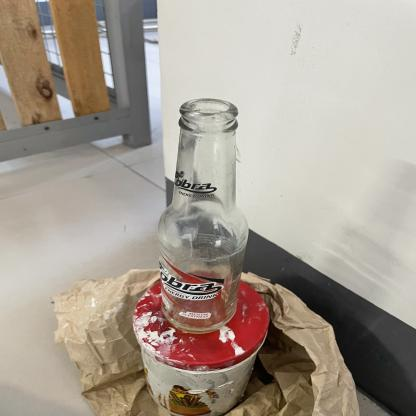Can: (152, 93, 244, 338)
